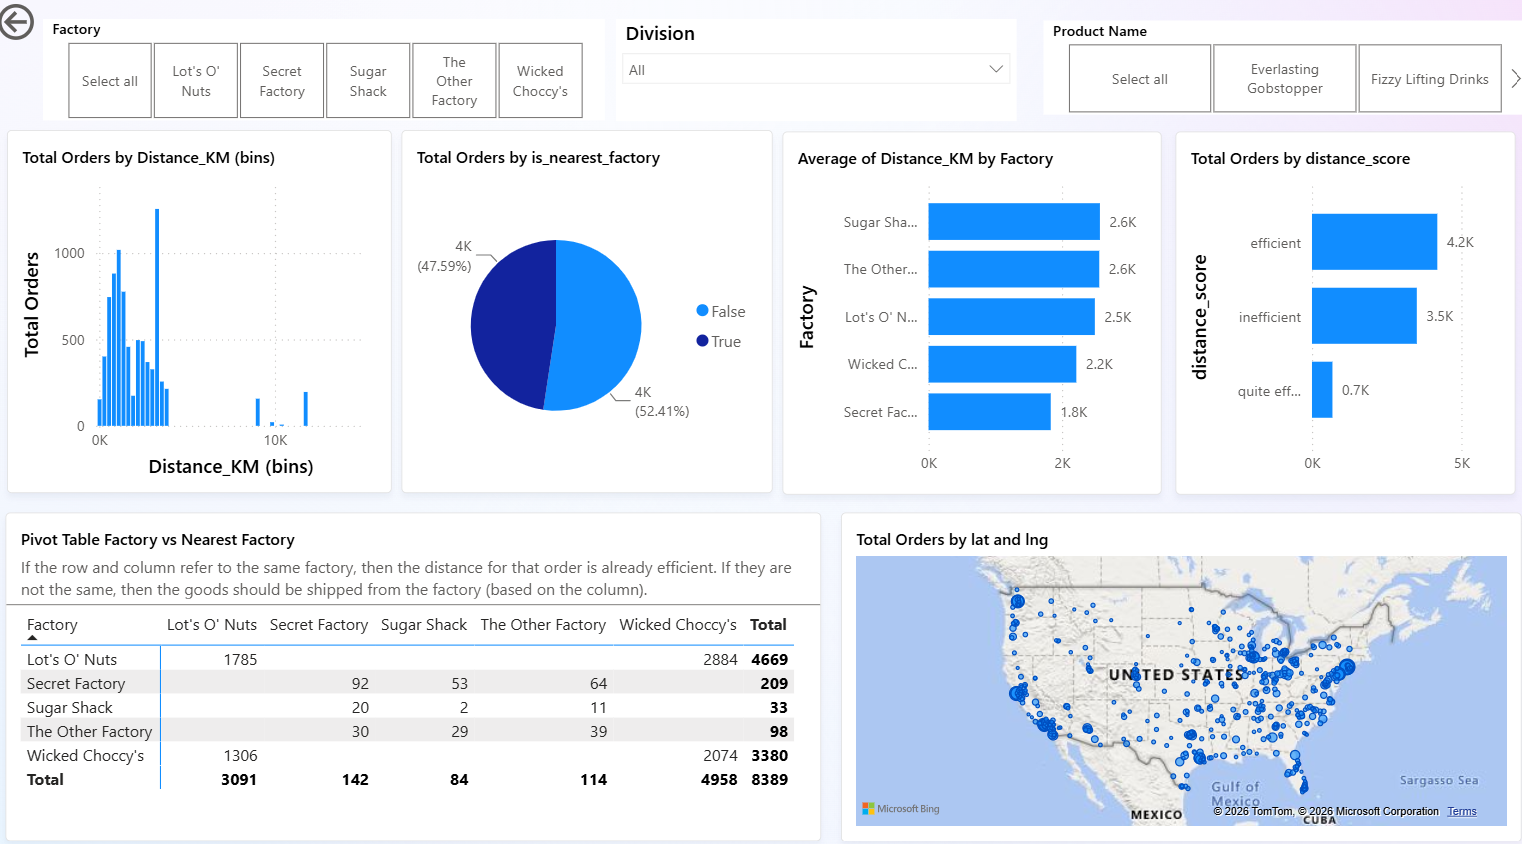

What the dashboard file says about the page in this screenshot:
{"tool":"powerbi","page":{"name":"efficient factory","canvas":[1280,720],"ordinal":1},"visuals":[{"type":"map","fields":{"Y":["Dim_Locations.lat"],"X":["Dim_Locations.lng"],"Size":["_Measures.Total Orders"]},"box":[709.2,430,569.4,275],"z":0},{"type":"pieChart","fields":{"Category":["Fact_Candy_Sales.is_nearest_factory"],"Y":["_Measures.Total Orders"]},"box":[342.5,109.8,309.9,303.4],"z":1000},{"type":"slicer","fields":{"Values":["Dim_Products.Factory"]},"box":[43.2,18.1,469.4,84.8],"z":2000},{"type":"clusteredColumnChart","fields":{"Y":["_Measures.Total Orders"],"Category":["Fact_Candy_Sales.Distance_KM (bins)"]},"box":[11.9,109.8,321.5,303.4],"z":3000},{"type":"clusteredBarChart","fields":{"Category":["Dim_Products.Factory"],"Y":["Avg(Fact_Candy_Sales.Distance_KM)"]},"box":[660.1,111.1,316.3,303.4],"z":4000},{"type":"clusteredBarChart","fields":{"Category":["Fact_Candy_Sales.distance_score"],"Y":["_Measures.Total Orders"]},"box":[988.1,111.1,284.1,303.4],"z":5000},{"type":"pivotTable","title":"Pivot Table Factory vs Nearest Factory","fields":{"Rows":["Dim_Products.Factory"],"Columns":["Fact_Candy_Sales.Nearest_Factory"],"Values":["_Measures.Total Orders"]},"box":[11.5,430.3,681.6,274.4],"z":6000},{"type":"slicer","fields":{"Values":["Dim_Products.Division"]},"box":[521,18.1,334.4,85.2],"z":7000},{"type":"actionButton","box":[0,0,100,40],"z":8000},{"type":"slicer","fields":{"Values":["Dim_Products.Product Name"]},"box":[878.6,18.6,401.4,78.6],"z":9000}]}

Visuals, with their boxes on the page's 1280x720 design canvas (x1, y1, x2, y2). These are canvas units, not pixel positions in the 1522x844 screenshot, which may show the page scaled, cropped or inside an application window:
map - Dim_Locations.lat x Dim_Locations.lng: box(709, 430, 1279, 705)
pieChart - Fact_Candy_Sales.is_nearest_factory x _Measures.Total Orders: box(342, 110, 652, 413)
slicer - Dim_Products.Factory: box(43, 18, 513, 103)
clusteredColumnChart - _Measures.Total Orders x Fact_Candy_Sales.Distance_KM (bins): box(12, 110, 333, 413)
clusteredBarChart - Dim_Products.Factory x Avg(Fact_Candy_Sales.Distance_KM): box(660, 111, 976, 414)
clusteredBarChart - Fact_Candy_Sales.distance_score x _Measures.Total Orders: box(988, 111, 1272, 414)
"Pivot Table Factory vs Nearest Factory" pivotTable: box(12, 430, 693, 705)
slicer - Dim_Products.Division: box(521, 18, 855, 103)
actionButton: box(0, 0, 100, 40)
slicer - Dim_Products.Product Name: box(879, 19, 1280, 97)
